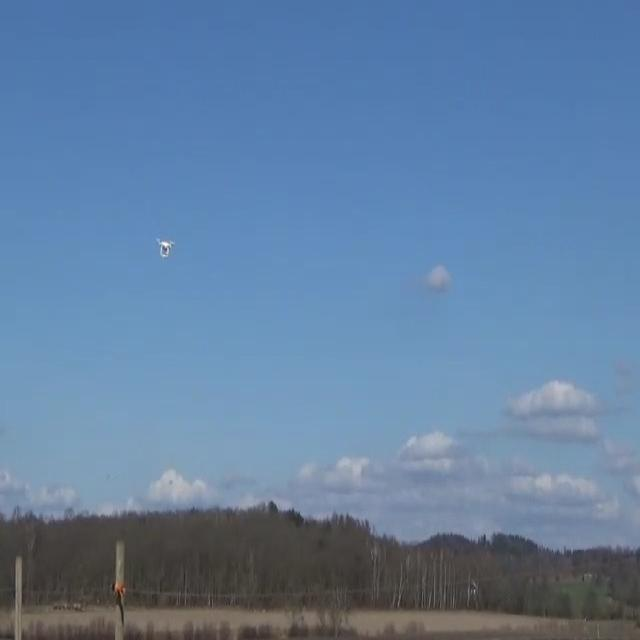drone: (155, 236, 174, 258)
